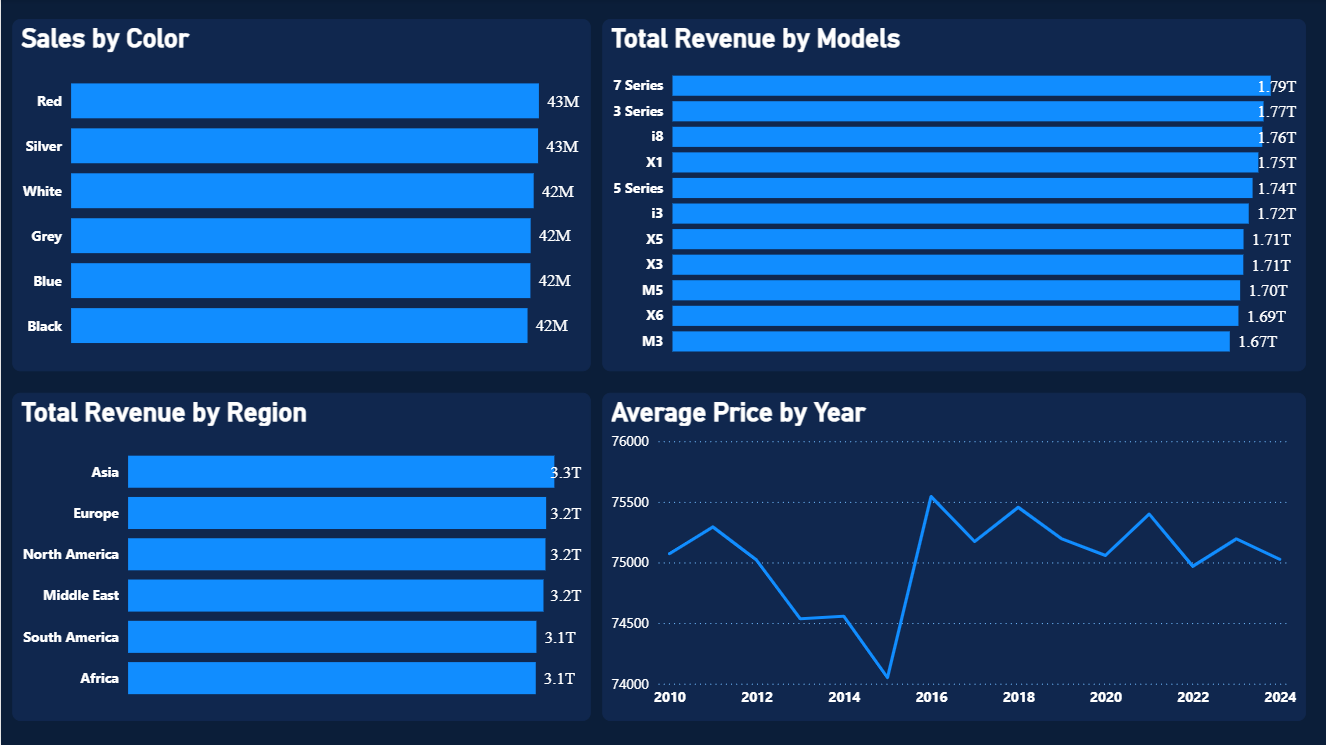

Layout of this report page (visuals, bound fields, positions):
{"tool":"powerbi","page":{"name":"Page 3","canvas":[1280,720],"ordinal":2},"visuals":[{"type":"barChart","title":"Total Revenue by Models","fields":{"Y":["BMW sales data (2010-2024) (1).Total Revenue"],"Category":["BMW sales data (2010-2024) (1).Model"]},"box":[580.4,19.2,679.2,340.3],"z":1},{"type":"barChart","title":"Sales by Color","fields":{"Y":["Sum(BMW sales data (2010-2024) (1).Sales_Volume)"],"Category":["BMW sales data (2010-2024) (1).Color"]},"box":[11,19.2,558.5,340.3],"z":2},{"type":"barChart","title":"Total Revenue by Region","fields":{"Category":["BMW sales data (2010-2024) (1).Region"],"Y":["BMW sales data (2010-2024) (1).Total Revenue"]},"box":[11,380.1,558.5,317],"z":3},{"type":"lineChart","title":"Average Price by Year","fields":{"Category":["BMW sales data (2010-2024) (1).Year"],"Y":["Avg(BMW sales data (2010-2024) (1).Price_USD)"]},"box":[580.4,380.1,679.2,317],"z":4}]}

Visuals, with their boxes in screenshot pixels (x1, y1, x2, y2), scaled from the page's 1280x720 canvas onto the 1326x745 screenshot:
"Total Revenue by Models" barChart: locate(601, 20, 1305, 372)
"Sales by Color" barChart: locate(11, 20, 590, 372)
"Total Revenue by Region" barChart: locate(11, 393, 590, 721)
"Average Price by Year" lineChart: locate(601, 393, 1305, 721)
